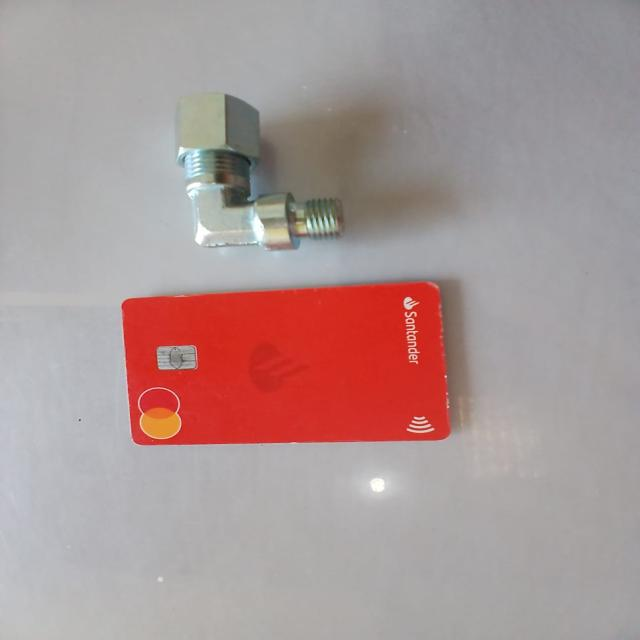cartao: (121, 283, 452, 447)
rosca_externa: (180, 92, 343, 251)
